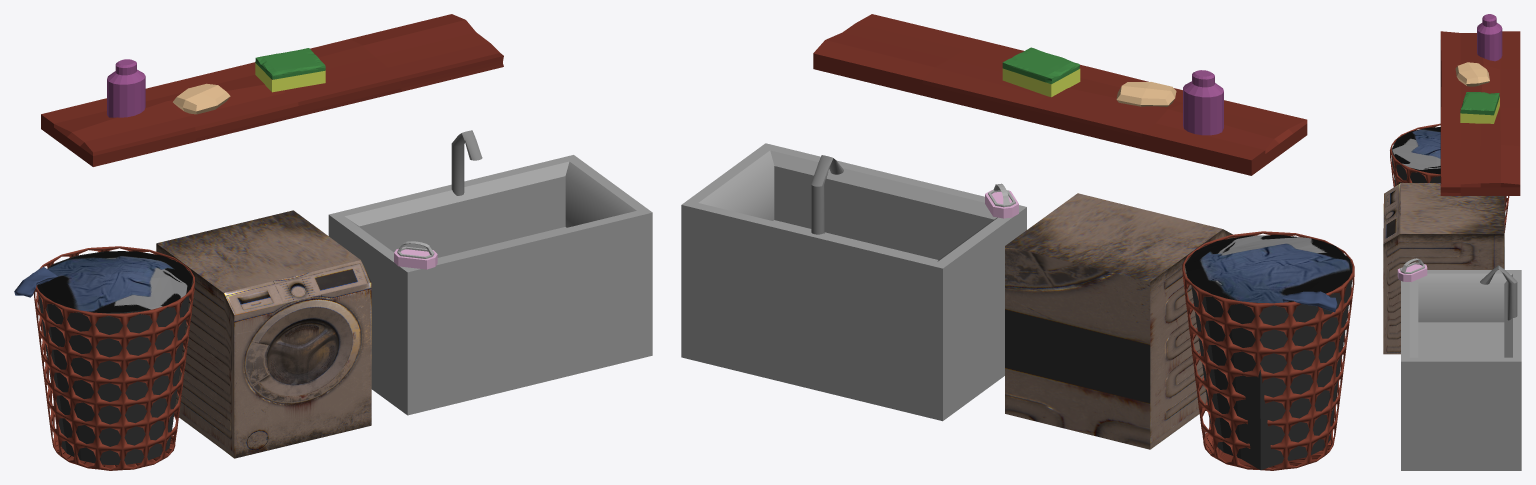
The model's file is CasaPinkmanLavandeiraCoisas.fbx.
3 renders of one model, left to right at view 1: azimuth 30°, elevation 25°; view 2: azimuth 150°, elevation 25°; view 3: azimuth 270°, elevation 25°, orthographic. The views are drawn at different scales.
Visible parts, largest first — view 1: Cube.025, Cube.024, Cube.027, Cylinder.004, Cylinder.002, Cylinder.005, Cylinder.006, Cube.031, Cube.028, Cylinder.003, Cube.030, Cube.032; view 2: Cube.025, Cube.024, Cube.027, Cylinder.004, Cylinder.002, Cylinder.005, Cylinder.006, Cube.031, Cube.028, Cylinder.003, Cube.030, Cube.026; view 3: Cube.025, Cube.024, Cube.027, Cylinder.005, Cylinder.006, Cube.031, Cylinder.004, Cube.028, Cylinder.003, Cylinder.002, Cube.030, Cube.032 (+1 smaller).
Boxes of the visible parts, left/top/right/bottom form: Cube.025: left=328, top=155, right=652, bottom=415; Cube.024: left=156, top=210, right=371, bottom=458; Cube.027: left=41, top=14, right=503, bottom=166; Cylinder.004: left=33, top=246, right=194, bottom=470; Cylinder.002: left=37, top=252, right=189, bottom=464; Cylinder.005: left=37, top=251, right=192, bottom=312; Cylinder.006: left=107, top=59, right=145, bottom=117; Cube.031: left=255, top=48, right=325, bottom=79; Cube.028: left=173, top=83, right=230, bottom=114; Cylinder.003: left=451, top=130, right=482, bottom=195; Cube.030: left=255, top=63, right=325, bottom=92; Cube.032: left=394, top=249, right=437, bottom=269; Cube.025: left=681, top=143, right=1026, bottom=421; Cube.024: left=1005, top=193, right=1234, bottom=449; Cube.027: left=813, top=14, right=1307, bottom=175; Cylinder.004: left=1182, top=231, right=1354, bottom=470; Cylinder.002: left=1191, top=262, right=1352, bottom=470; Cylinder.005: left=1185, top=235, right=1351, bottom=303; Cylinder.006: left=1183, top=70, right=1223, bottom=135; Cube.031: left=1002, top=47, right=1079, bottom=84; Cube.028: left=1116, top=82, right=1176, bottom=106; Cylinder.003: left=811, top=155, right=843, bottom=234; Cube.030: left=1002, top=68, right=1080, bottom=97; Cube.026: left=1282, top=291, right=1337, bottom=312; Cube.025: left=1401, top=270, right=1521, bottom=470; Cube.024: left=1383, top=183, right=1504, bottom=354; Cube.027: left=1440, top=31, right=1520, bottom=195; Cylinder.005: left=1392, top=127, right=1440, bottom=174; Cylinder.006: left=1477, top=14, right=1502, bottom=61; Cube.031: left=1460, top=92, right=1499, bottom=115; Cylinder.004: left=1390, top=123, right=1509, bottom=232; Cube.028: left=1455, top=62, right=1489, bottom=86; Cylinder.003: left=1480, top=265, right=1517, bottom=320; Cylinder.002: left=1391, top=127, right=1506, bottom=215; Cube.030: left=1460, top=97, right=1499, bottom=123; Cube.032: left=1397, top=264, right=1427, bottom=281.
Size of the model in its own units: 858 by 511 by 229.
